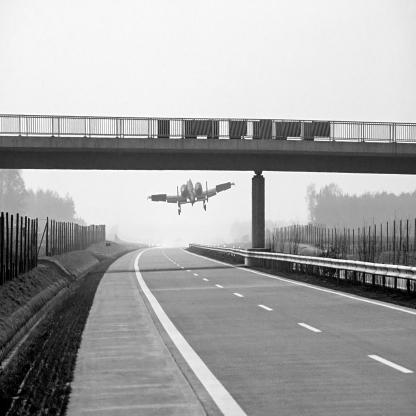A10: (148, 178, 236, 216)
